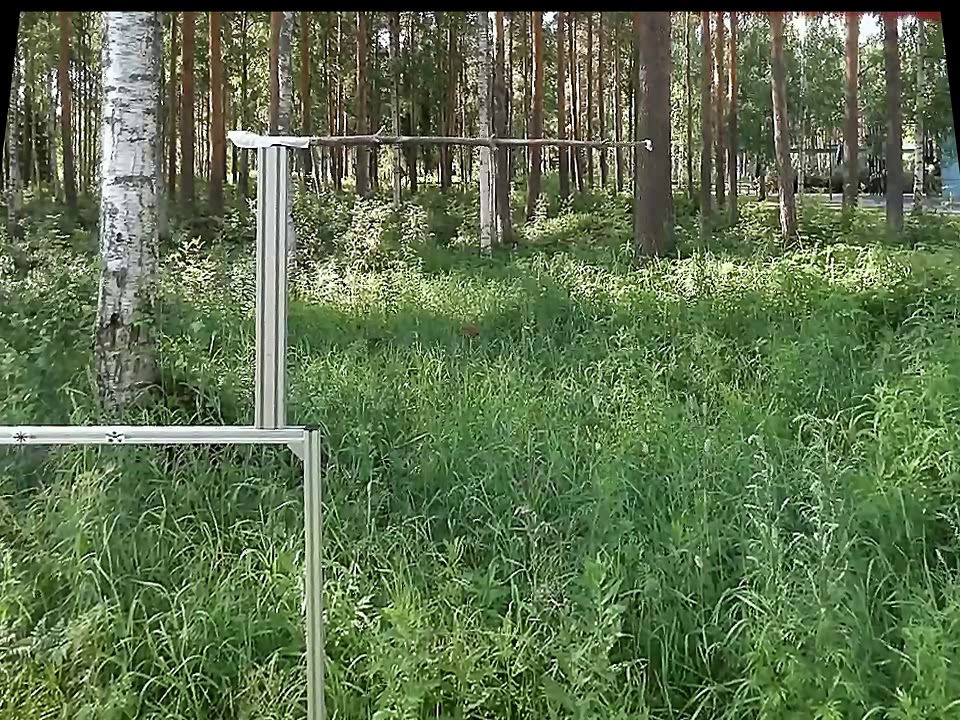aluminum_frame: (250, 149, 292, 423), (1, 415, 306, 450), (299, 422, 330, 717)
branch: (310, 118, 637, 156)
